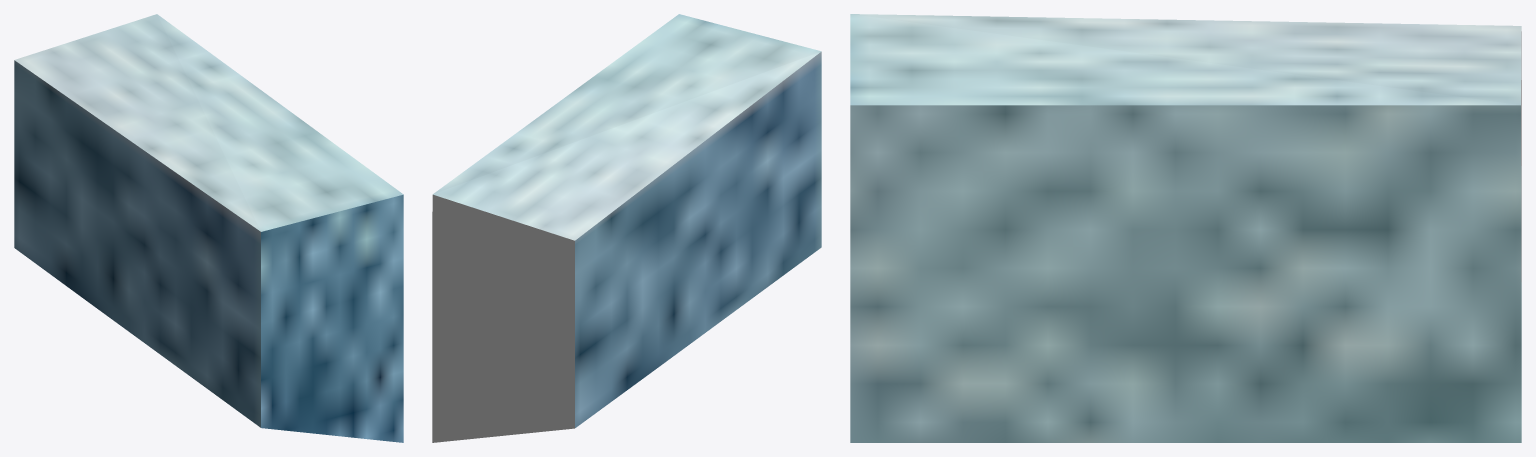
3 views of the same model, side by side, from view 1: azimuth 30°, elevation 25°; view 2: azimuth 150°, elevation 25°; view 3: azimuth 270°, elevation 25° (orthographic). The views are drawn at different scales.
Visible parts, largest first — view 1: Cube_cell.017_Mesh.017; view 2: Cube_cell.017_Mesh.017; view 3: Cube_cell.017_Mesh.017.
Part boxes in pixels (x1,y1,x2,y2): Cube_cell.017_Mesh.017: [14, 14, 403, 442]; Cube_cell.017_Mesh.017: [432, 14, 821, 442]; Cube_cell.017_Mesh.017: [850, 14, 1521, 442].
Bounding box in the file's own units: 0.0832 × 0.1384 × 0.2493.
